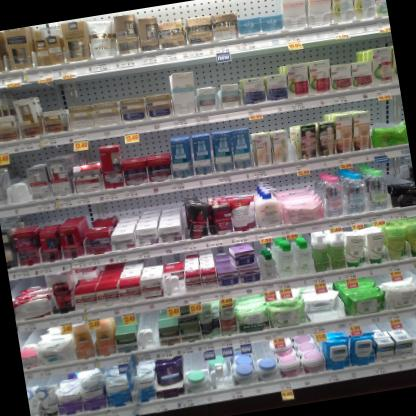empty_space: (11, 157, 32, 202), (184, 350, 207, 372), (403, 317, 416, 355), (310, 308, 341, 323), (254, 339, 271, 359)
